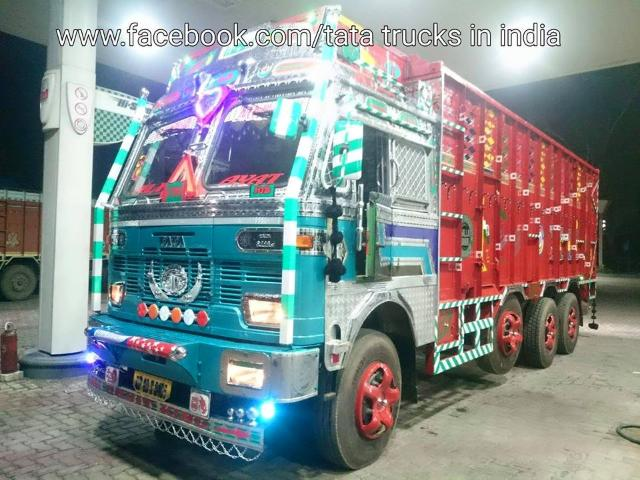truck: (87, 3, 613, 473)
